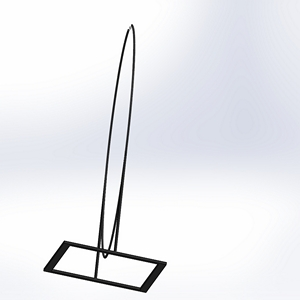circle: (41, 23, 167, 293)
